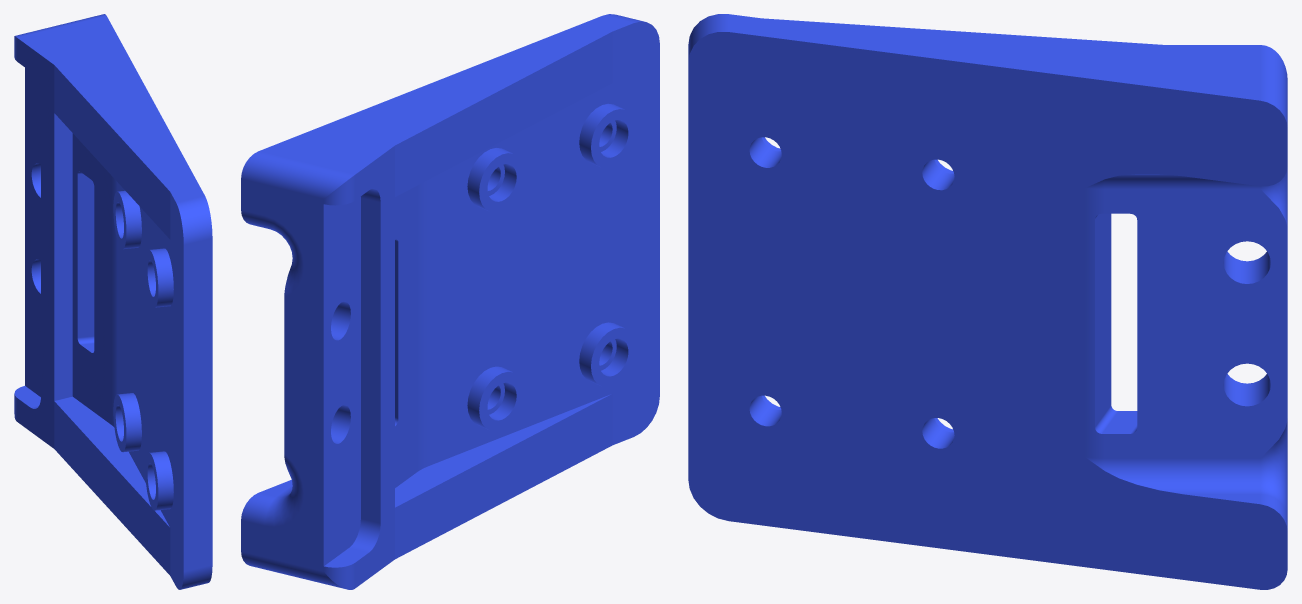
Rendered from Camera_mount.obj.
3 renders of one model, left to right at view 1: azimuth 30°, elevation 25°; view 2: azimuth 150°, elevation 25°; view 3: azimuth 270°, elevation 25°, orthographic. The views are drawn at different scales.
Parts seen in each view (by area): view 1: Body1; view 2: Body1; view 3: Body1.
Part boxes in pixels (x1,y1,x2,y2): Body1: (14,14,212,589); Body1: (241,14,659,589); Body1: (688,14,1287,589).
Bounding box in the file's own units: 1.69 × 4 × 4.44.
